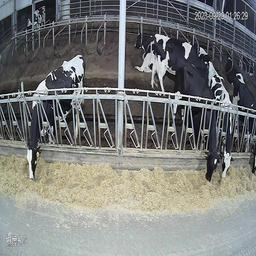cow: (24, 56, 86, 181), (174, 57, 218, 184), (208, 71, 235, 177), (169, 36, 219, 82), (233, 80, 255, 175), (134, 29, 164, 79), (224, 50, 245, 84), (27, 5, 46, 36)
